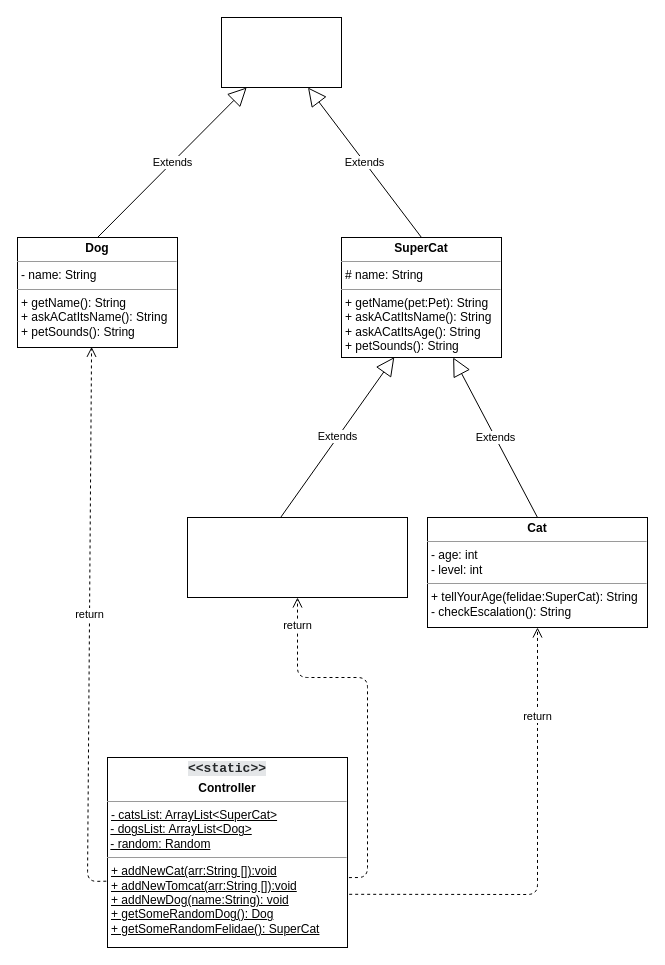
This 665x965 diagram has some shape labels left out. The centre of each missing label's shape, as x and y in pixels:
<< abstract >> Pet + petSounds(): String: the point at 281,52
Tomcat - age: int + tellYourAge(felidae:SuperCat ): String: the point at 297,557
